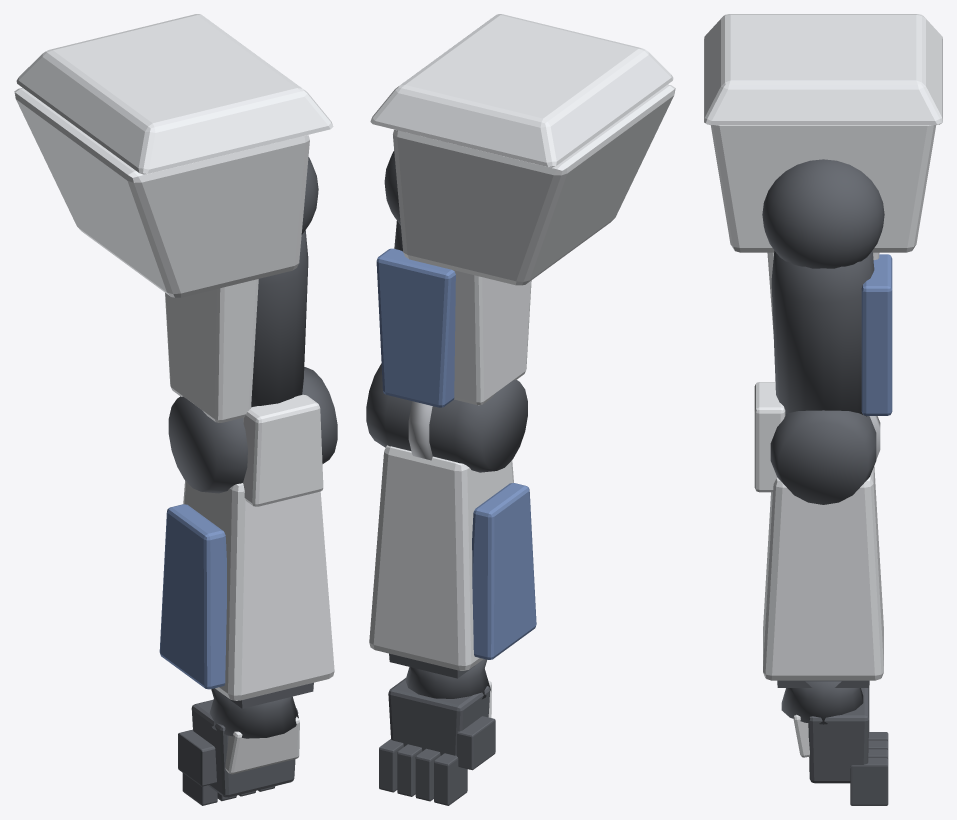
The model's file is arm_general_l.glb.
3 renders of one model, left to right at view 1: azimuth 30°, elevation 25°; view 2: azimuth 150°, elevation 25°; view 3: azimuth 270°, elevation 25°, orthographic. The views are drawn at different scales.
Parts seen in each view (by area): view 1: pauldron, pauldron_top, forearm, upper_arm_plate, forearm_outer, elbow_guard, elbow_cyl, upper_arm, palm, wrist, hand_back, thumb (+3 smaller); view 2: pauldron, pauldron_top, forearm, upper_arm_front, forearm_outer, elbow_cyl, upper_arm_plate, palm, wrist, thumb, finger, elbow_cyl_ring (+5 smaller); view 3: pauldron_top, forearm, pauldron, upper_arm, shoulder_joint, elbow_cyl, upper_arm_front, palm, wrist, elbow_guard, finger.003, forearm_inner (+1 smaller).
Part boxes in pixels (x1,y1,x2,y2): pauldron: (14,88,309,297); pauldron_top: (16,14,333,174); forearm: (183,480,334,700); upper_arm_plate: (165,279,258,422); forearm_outer: (159,504,226,689); elbow_guard: (243,394,323,506); elbow_cyl: (168,367,337,493); upper_arm: (251,230,308,407); palm: (191,700,298,797); wrist: (209,688,298,738); hand_back: (225,716,299,774); thumb: (178,729,216,786); pauldron: (393,84,675,285); pauldron_top: (370,14,673,167); forearm: (369,445,513,670); upper_arm_front: (376,248,455,407); forearm_outer: (472,483,536,659); elbow_cyl: (366,363,527,472); upper_arm_plate: (453,270,531,405); palm: (388,678,490,755); wrist: (405,659,490,699); thumb: (457,716,495,770); finger: (434,753,467,805); elbow_cyl_ring: (408,401,432,460); pauldron_top: (704,14,942,124); forearm: (763,466,883,680); pauldron: (710,125,936,252); upper_arm: (771,250,874,416); shoulder_joint: (762,159,884,268); elbow_cyl: (770,410,876,504); upper_arm_front: (861,254,892,415); palm: (808,688,869,783); wrist: (781,681,863,724); elbow_guard: (754,382,785,492); finger.003: (850,758,888,805); forearm_inner: (777,680,869,687).
Bounding box in the file's own units: 2.89 × 8.67 × 2.66.
